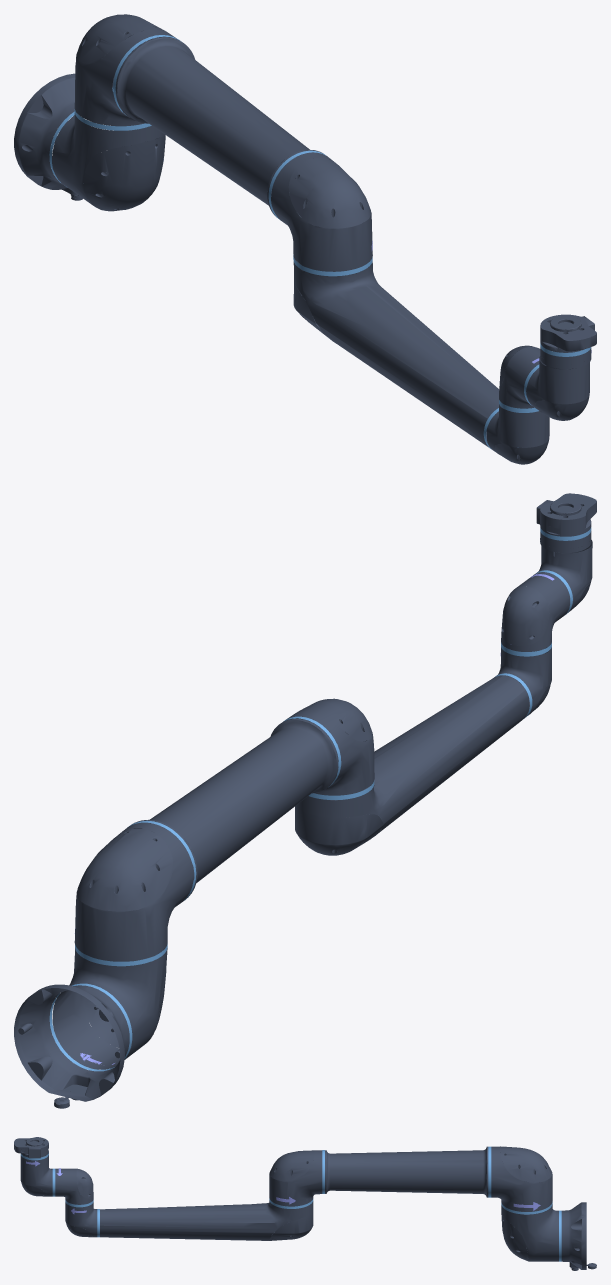
Rendered from 20kg-6axis-model.glb.
3 views of the same model, one above another, from view 1: azimuth 30°, elevation 25°; view 2: azimuth 150°, elevation 25°; view 3: azimuth 270°, elevation 25° (orthographic). The views are drawn at different scales.
Parts seen in each view (by area): view 1: Link2, Link3, Link1, Base, Link5, Link6, Link4; view 2: Link2, Link3, Link1, Base, Link4, Link6, Link5; view 3: Link2, Link3, Link1, Base, Link4, Link5, Link6.
Part boxes in pixels (x1,y1,x2,y2): Link2: (74, 14, 372, 276); Link3: (293, 258, 549, 464); Link1: (52, 87, 165, 211); Base: (14, 73, 129, 200); Link5: (526, 352, 589, 420); Link6: (540, 314, 596, 369); Link4: (499, 345, 564, 408); Link2: (74, 698, 374, 961); Link3: (295, 642, 551, 855); Link1: (52, 944, 167, 1069); Base: (14, 983, 132, 1108); Link4: (501, 570, 572, 651); Link6: (536, 493, 596, 552); Link5: (537, 540, 592, 612); Link2: (269, 1146, 552, 1211); Link3: (65, 1200, 313, 1240); Link1: (501, 1201, 558, 1261); Base: (559, 1202, 596, 1270); Link4: (52, 1168, 93, 1204); Link5: (20, 1161, 52, 1196); Link6: (14, 1137, 48, 1166).
Bounding box in the file's own units: 0.2446 × 0.512 × 2.1.
